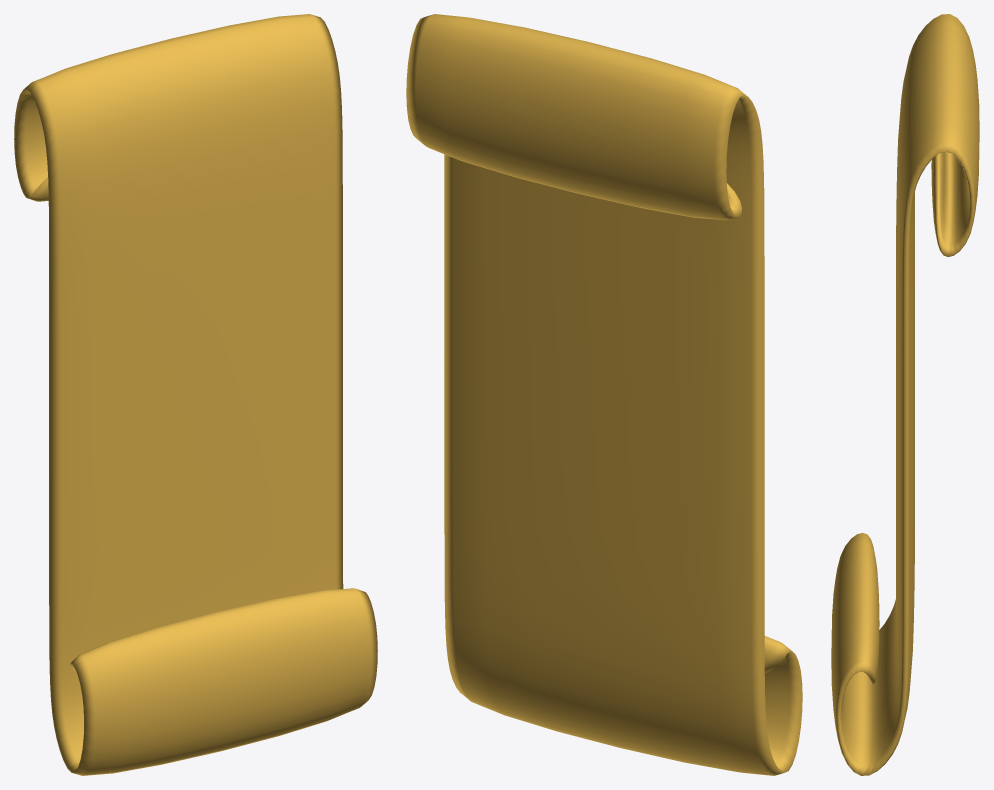
The model's file is scroll.glb.
The picture shows the model from 3 angles, left to right: view 1: azimuth 30°, elevation 25°; view 2: azimuth 150°, elevation 25°; view 3: azimuth 270°, elevation 25°; orthographic projection. The views are drawn at different scales.
Parts seen in each view (by area): view 1: Cube; view 2: Cube; view 3: Cube.
Part boxes in pixels (x1,y1,x2,y2): Cube: (14, 14, 377, 775); Cube: (406, 14, 802, 775); Cube: (831, 14, 979, 775).
Size of the model in its own units: 1.83 by 4.04 by 0.8367.
